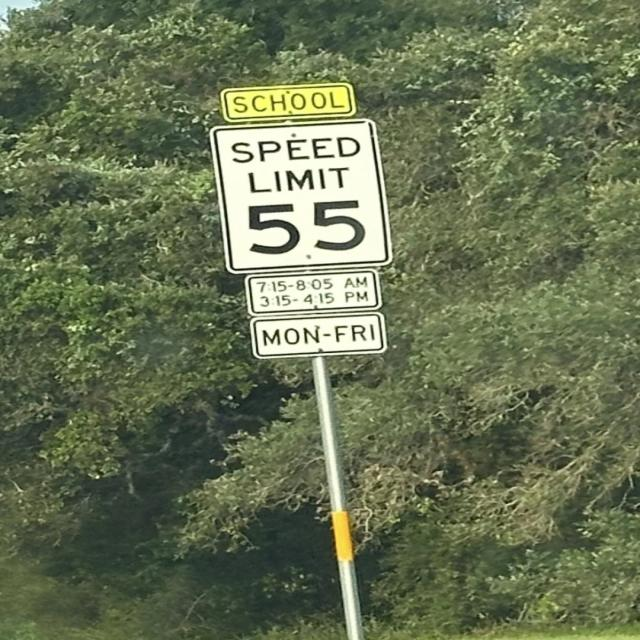Speed Limit Signs: (208, 116, 394, 270)
